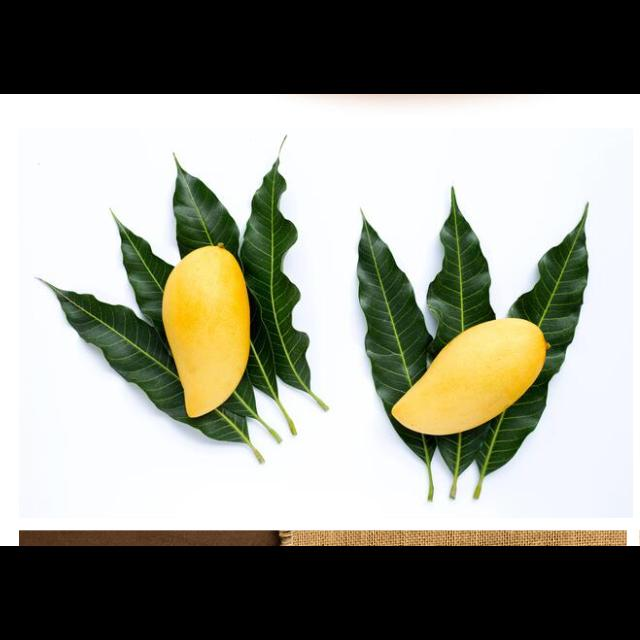mango: (383, 315, 547, 434), (162, 242, 251, 419)
